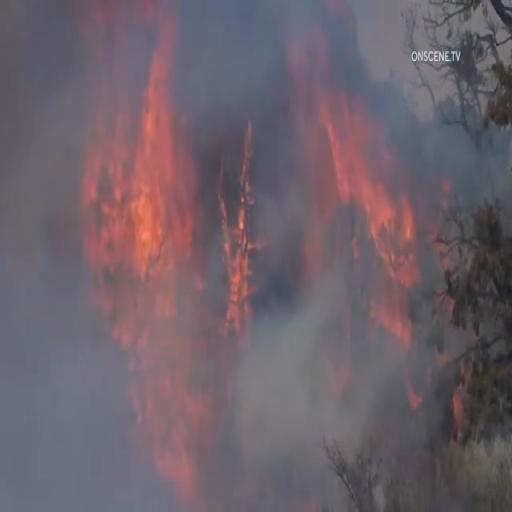fire: (303, 55, 428, 424), (73, 26, 192, 410), (212, 117, 269, 411)
smoke: (2, 0, 71, 471), (200, 0, 332, 103)
